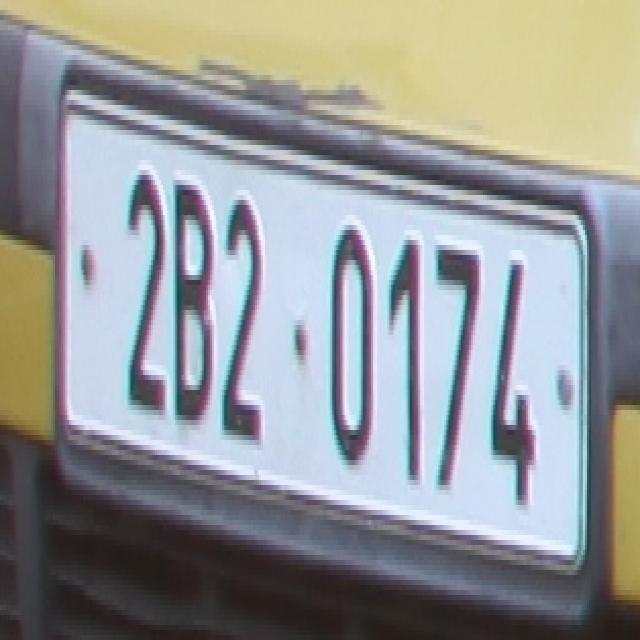0: (326, 210, 375, 465)
1: (386, 225, 424, 485)
2: (218, 180, 265, 440), (122, 160, 167, 420)
4: (489, 240, 538, 520)
7: (428, 230, 483, 505)
B: (171, 170, 214, 425)
